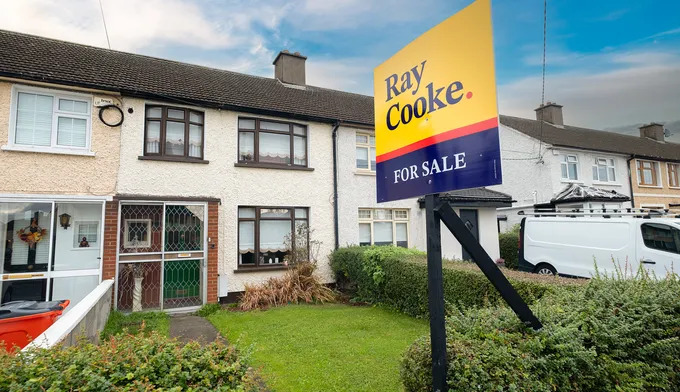property sign: (358, 1, 505, 211)
